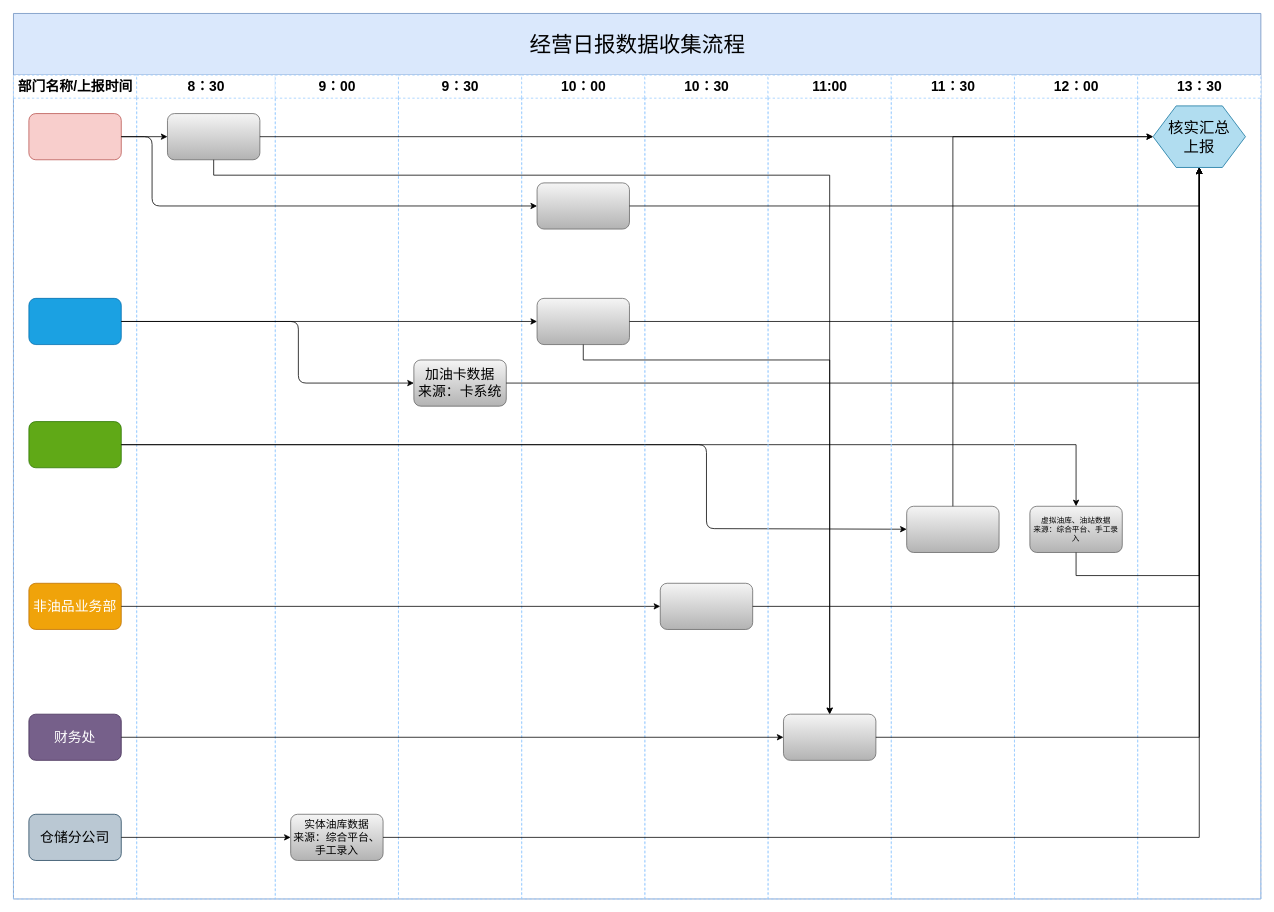
Image size: 1274x912. Some labels were removed from this diagram. Here are the shapes that lost their labels. From the top down, the box of each, then its label:
(28, 113, 121, 160): 营销处
(167, 113, 260, 160): 直批数据 来源：ERP
(536, 182, 629, 229): 直批市场情况 来源：晨会、情报系统
(28, 298, 121, 345): 零售处
(536, 298, 629, 345): 零售数据 来源：HOS
(28, 421, 121, 468): 调运处
(906, 506, 999, 552): 在途数据 来源：手工录入
(660, 583, 753, 629): 非油品收入、毛利 来源：BW系统
(783, 713, 876, 760): 油品毛利数据 来源：ERP以及营销、零售数据
